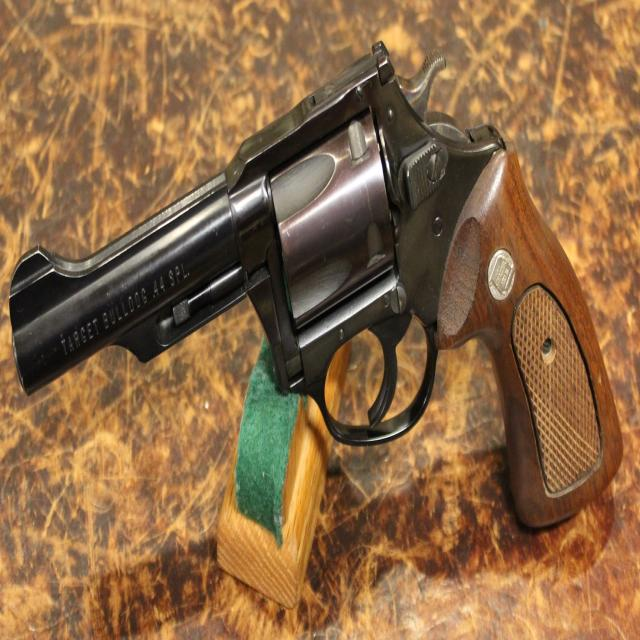Gun: (6, 34, 630, 590)
